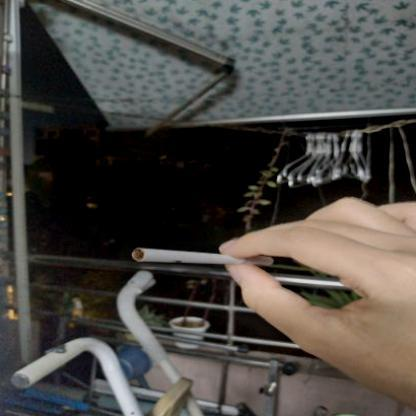cigarette: (129, 244, 276, 269)
